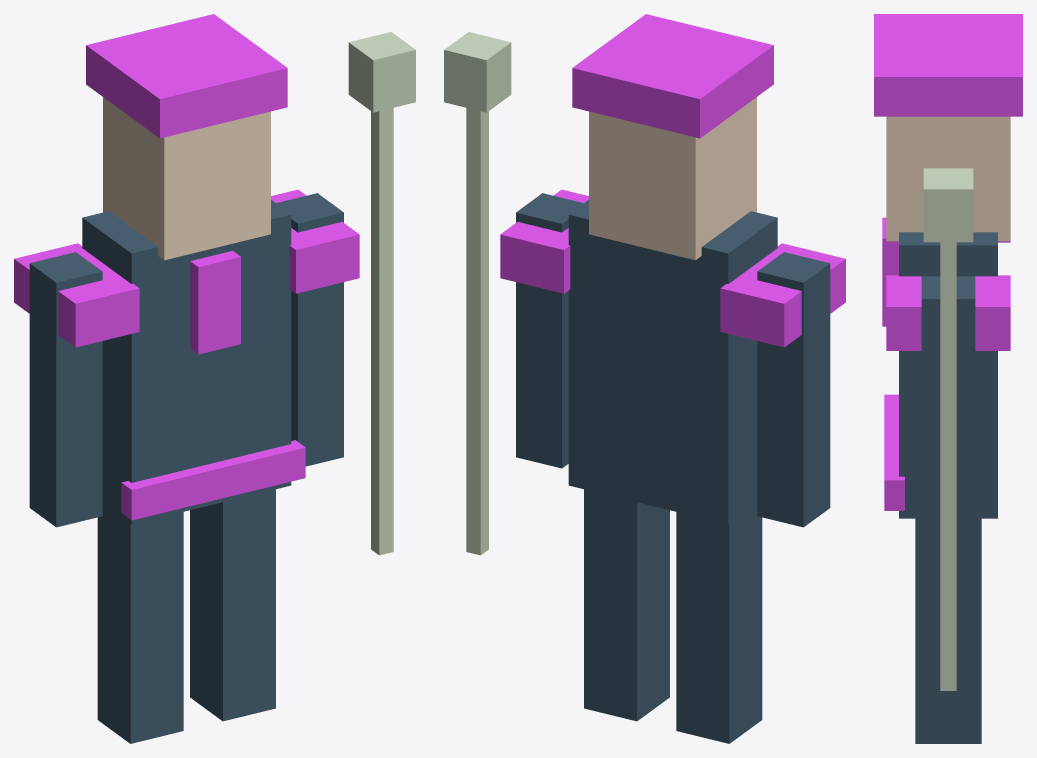
Rendered from 03_bex_signalborn_tamer_of_rooftop.glb.
3 renders of one model, left to right at view 1: azimuth 30°, elevation 25°; view 2: azimuth 150°, elevation 25°; view 3: azimuth 270°, elevation 25°, orthographic.
Parts seen in each view (by area): view 1: Bex Signalborn, Tamer of Rooftop; view 2: Bex Signalborn, Tamer of Rooftop; view 3: Bex Signalborn, Tamer of Rooftop.
Part boxes in pixels (<box>): Bex Signalborn, Tamer of Rooftop: <box>14,14,415,743</box>; Bex Signalborn, Tamer of Rooftop: <box>444,14,845,743</box>; Bex Signalborn, Tamer of Rooftop: <box>874,14,1022,743</box>.
Size of the model in its own units: 0.9381 by 1.63 by 0.3327.
